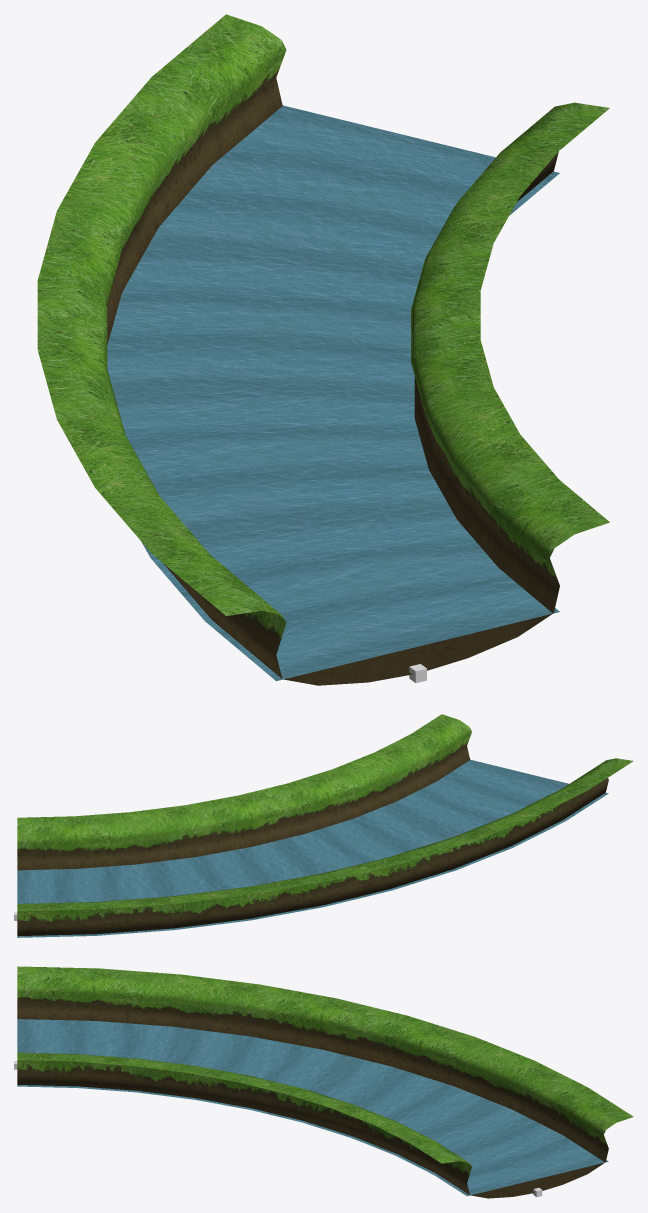
File: roadBend60.R.fbx
3 views of the same model, one above another, from view 1: azimuth 30°, elevation 25°; view 2: azimuth 150°, elevation 25°; view 3: azimuth 270°, elevation 25° (orthographic). The views are drawn at different scales.
Visible parts, largest first — view 1: MESH roadBend60.R; view 2: MESH roadBend60.R; view 3: MESH roadBend60.R.
Part boxes in pixels (<box>): MESH roadBend60.R: <box>37,14,609,685</box>; MESH roadBend60.R: <box>17,714,633,937</box>; MESH roadBend60.R: <box>17,966,633,1198</box>.
Size of what is drawn, in the model's own units: 3560 by 463 by 4727.
